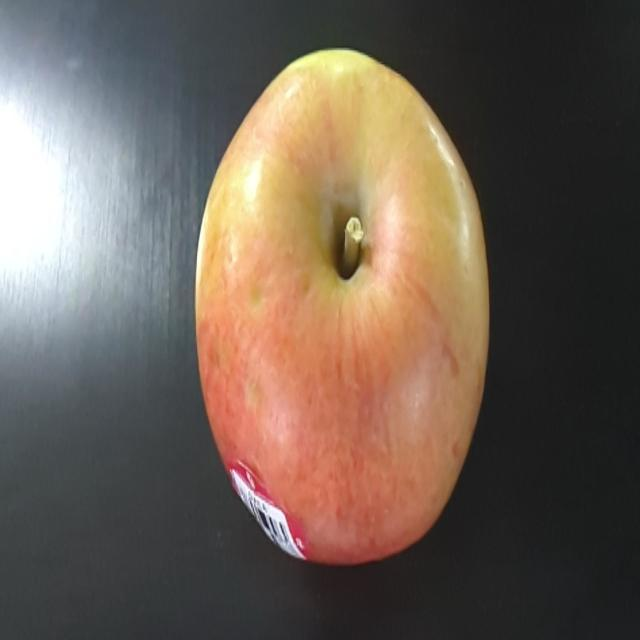Apel Merah: (188, 45, 507, 575)
